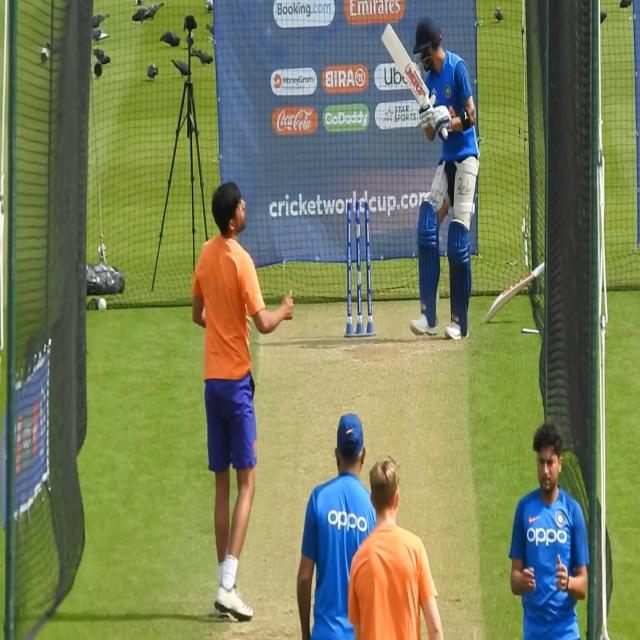ball: (98, 295, 107, 315)
stump: (344, 200, 375, 340)
